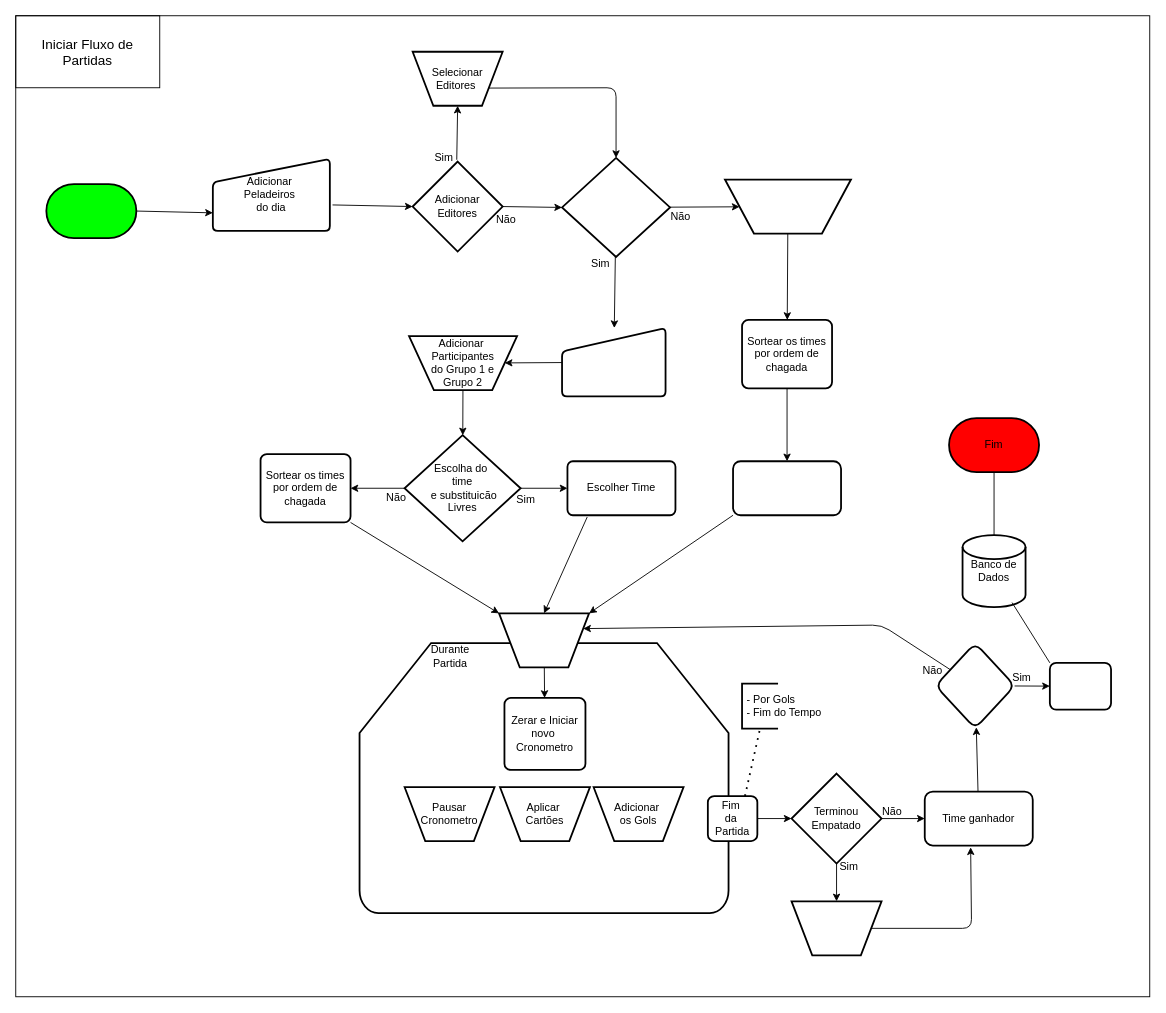
Image size: 1166x1013. Some labels were removed from this diagram. The shapes that lost their labels are listed below. From the top down, each one's centre as x and y in pixels, then its label:
[91,210]: Inicio
[615,207]: Tem Jogadores Reservas?
[787,206]: Adicionar ordem de chegada dos Peladeiros
[613,362]: Inserir numero de reservas por time
[787,488]: Divivir os Peladeiros em times
[544,640]: Iniciar Partida Individual
[974,685]: Encerrar Fluxo de Partidas
[1080,686]: Sincronizar Dados
[836,928]: Pênalti
